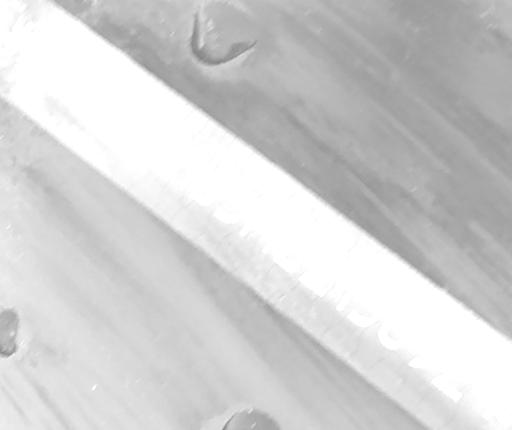letter: (240, 190, 292, 248), (300, 238, 350, 298), (433, 341, 485, 397), (348, 273, 400, 326), (274, 216, 320, 272), (146, 121, 192, 174), (216, 170, 262, 222), (120, 102, 168, 151), (190, 151, 236, 201), (98, 81, 142, 132), (408, 318, 452, 367), (54, 46, 96, 96), (376, 301, 416, 352), (80, 61, 120, 112), (176, 138, 216, 187), (336, 258, 372, 308), (30, 31, 64, 82)
